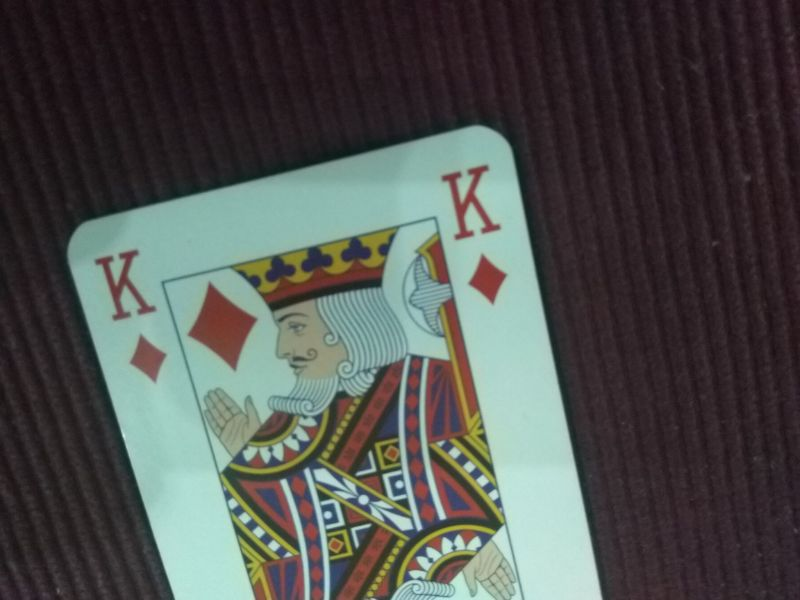Kd: (92, 242, 173, 392), (441, 155, 511, 308)
